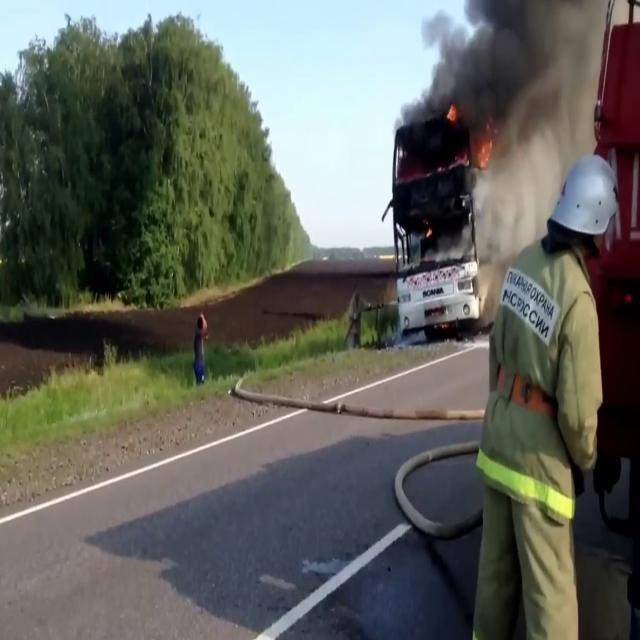Smoke: (400, 1, 596, 156)
